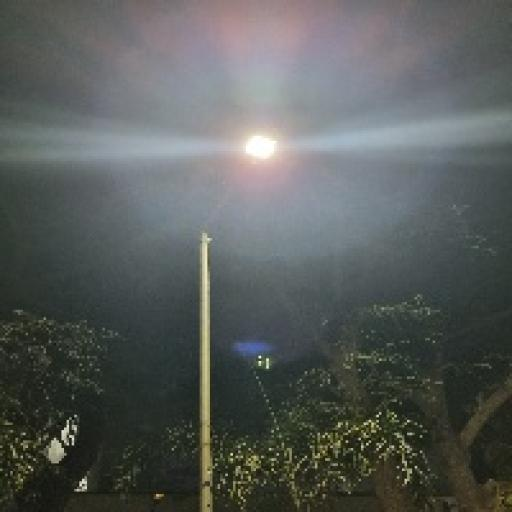Working: (234, 126, 280, 170)
